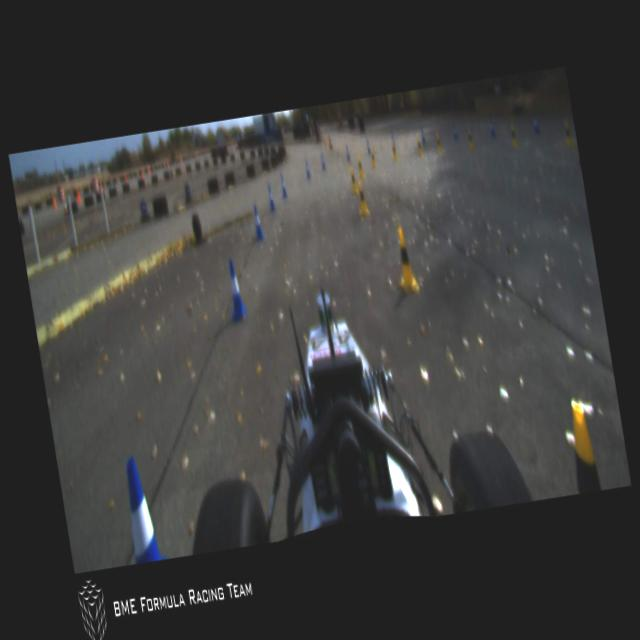blue_cone: (120, 452, 172, 563), (222, 257, 248, 320), (251, 204, 264, 242), (266, 184, 276, 210), (303, 157, 311, 178), (279, 176, 287, 195), (488, 118, 496, 137), (532, 116, 540, 135), (452, 122, 459, 142), (389, 132, 396, 150), (320, 154, 327, 170), (345, 144, 351, 160), (366, 138, 372, 154), (420, 128, 426, 144)
yellow_cone: (390, 225, 420, 296), (560, 111, 576, 158), (354, 178, 370, 218), (348, 164, 359, 197), (434, 131, 444, 156), (466, 126, 476, 151), (356, 154, 366, 178), (509, 123, 519, 147), (415, 134, 424, 156), (370, 149, 378, 168), (391, 142, 398, 160)
